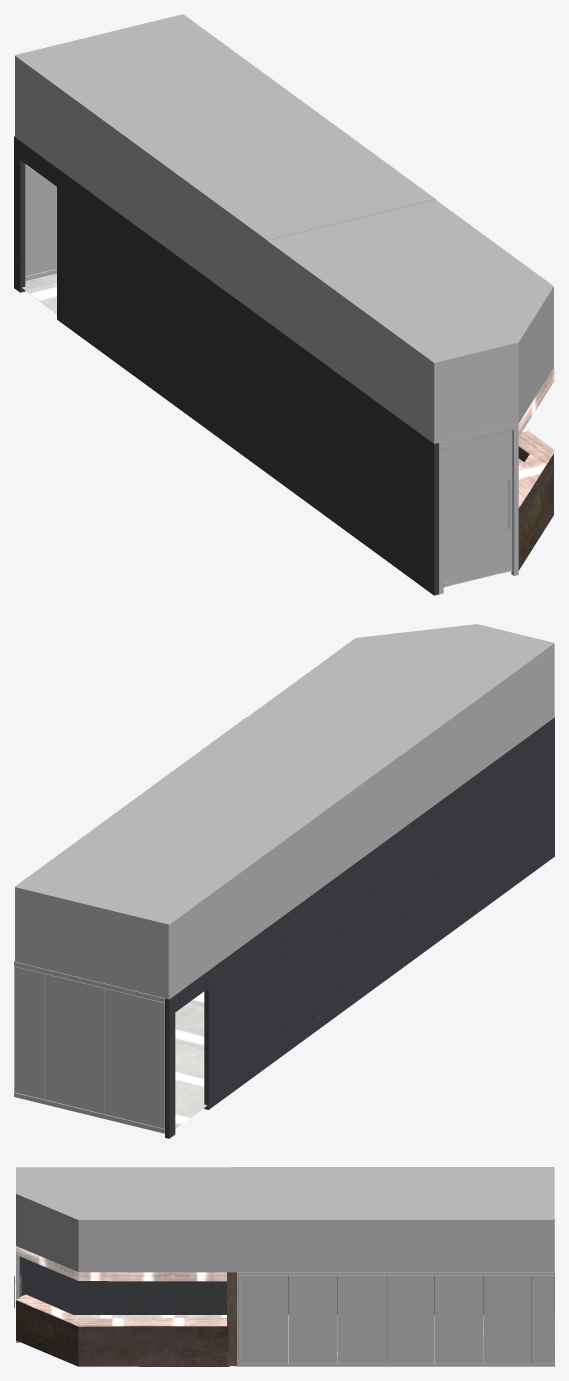
File: SM_ConferenceSecretaryRoom.fbx
3 views of the same model, one above another, from view 1: azimuth 30°, elevation 25°; view 2: azimuth 150°, elevation 25°; view 3: azimuth 270°, elevation 25° (orthographic). The views are drawn at different scales.
Visible parts, largest first — view 1: SM_ConferenceSecretaryRoom; view 2: SM_ConferenceSecretaryRoom; view 3: SM_ConferenceSecretaryRoom.
Part boxes in pixels (box(x1,y1,x2,y2)): SM_ConferenceSecretaryRoom: box(14, 14, 554, 595); SM_ConferenceSecretaryRoom: box(14, 624, 554, 1138); SM_ConferenceSecretaryRoom: box(14, 1167, 554, 1366).
Size of the model in its own units: 351 by 1512 by 461.
Materials: 8 (5 with a texture image).
